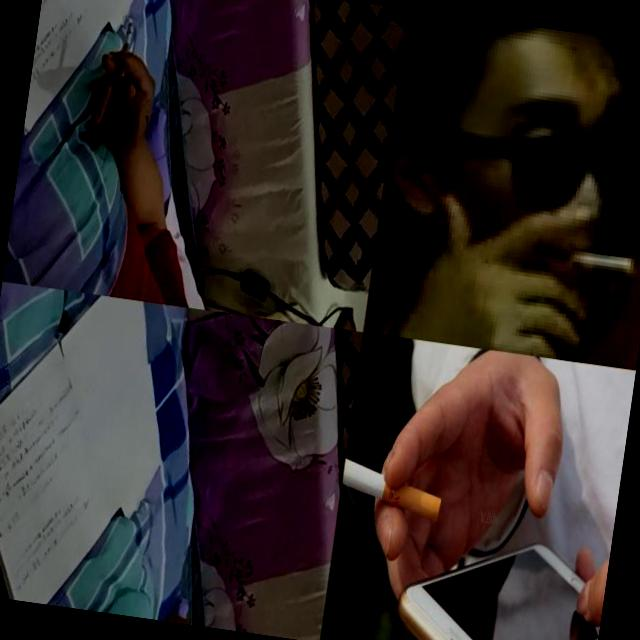cigarette: (338, 454, 447, 524), (561, 247, 635, 277), (117, 22, 134, 78)
